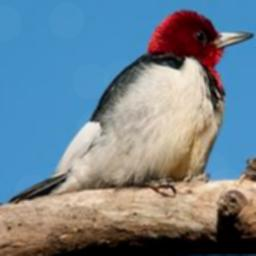Woodpecker: (8, 9, 255, 203)
